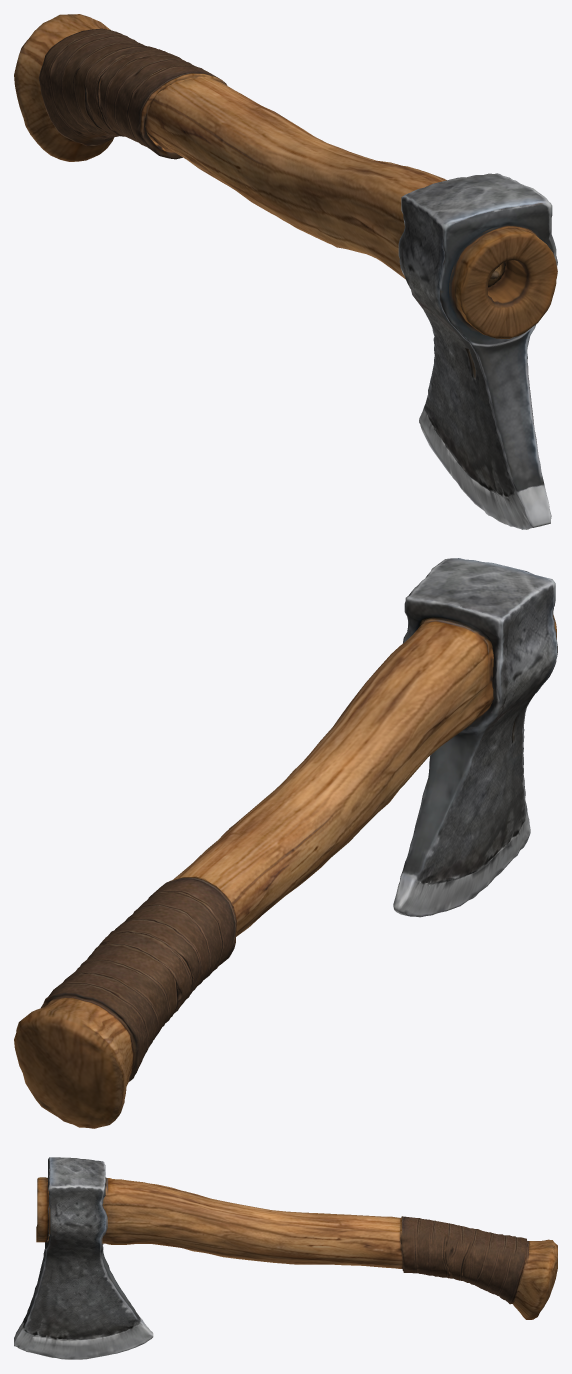
The model's file is axe.glb.
3 renders of one model, top to bottom at view 1: azimuth 30°, elevation 25°; view 2: azimuth 150°, elevation 25°; view 3: azimuth 270°, elevation 25°, orthographic. The views are drawn at different scales.
Parts seen in each view (by area): view 1: tripo_node_d13674be-1aa9-4798-b07c-d2430c6f0f25; view 2: tripo_node_d13674be-1aa9-4798-b07c-d2430c6f0f25; view 3: tripo_node_d13674be-1aa9-4798-b07c-d2430c6f0f25.
Boxes of the visible parts, left/top/right/bottom form: tripo_node_d13674be-1aa9-4798-b07c-d2430c6f0f25: left=14, top=14, right=557, bottom=529; tripo_node_d13674be-1aa9-4798-b07c-d2430c6f0f25: left=14, top=558, right=557, bottom=1128; tripo_node_d13674be-1aa9-4798-b07c-d2430c6f0f25: left=14, top=1157, right=557, bottom=1359.
Size of the model in its own units: 0.1398 by 0.3697 by 0.9788.
Materials: 1 (1 with a texture image).
